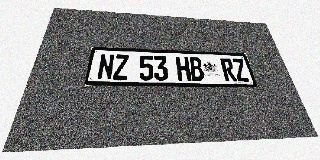3: (154, 56, 168, 81)
5: (140, 55, 154, 80)
B: (188, 57, 205, 81)
H: (176, 57, 191, 81)
N: (97, 54, 115, 80)
R: (220, 58, 238, 81)
Z: (231, 59, 250, 82), (113, 54, 129, 80)
